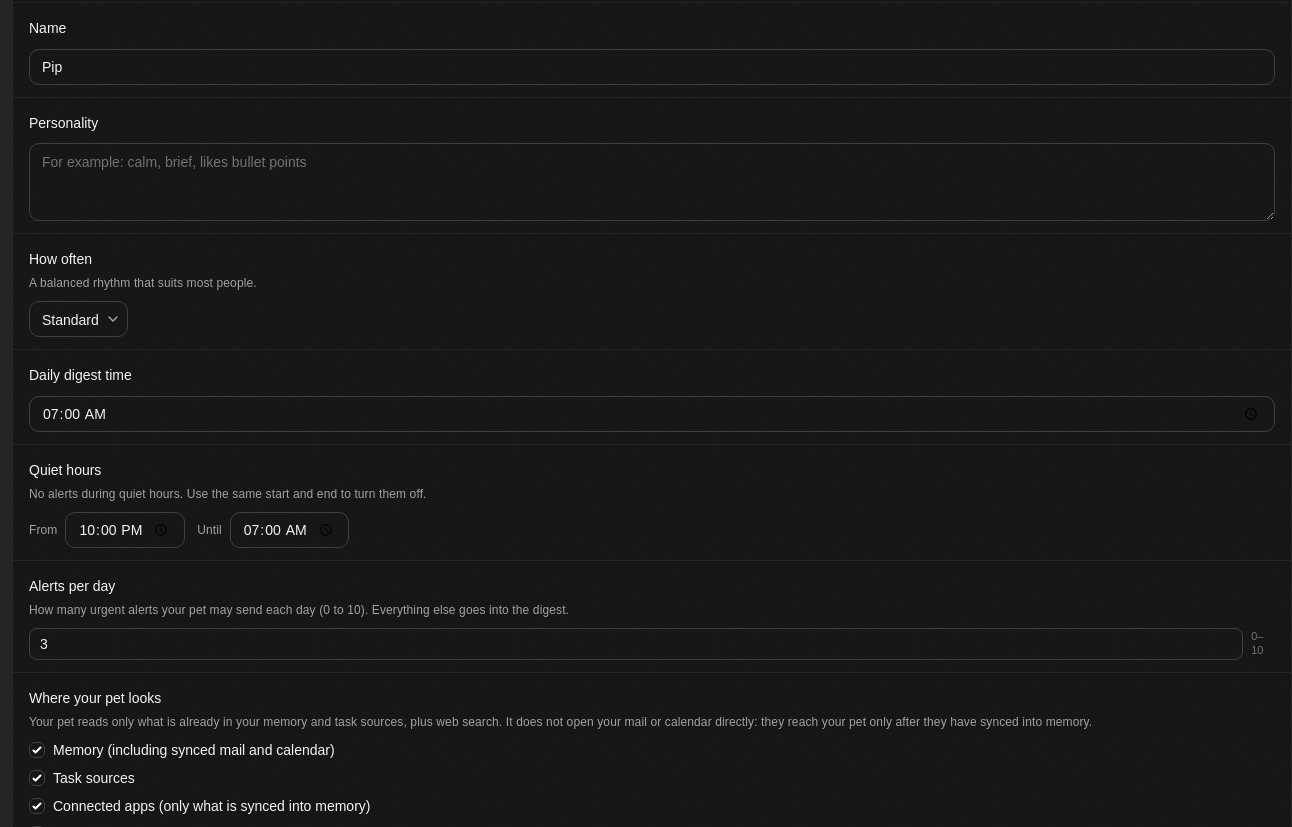
it: PetSettingsTab › sends a minimal patch containing only the changed fields
Step 1. Replace the text in the field with test id "pet-name-input" with "  Bean " → (652, 67), box [29,49,1275,85]
(page scrolled)
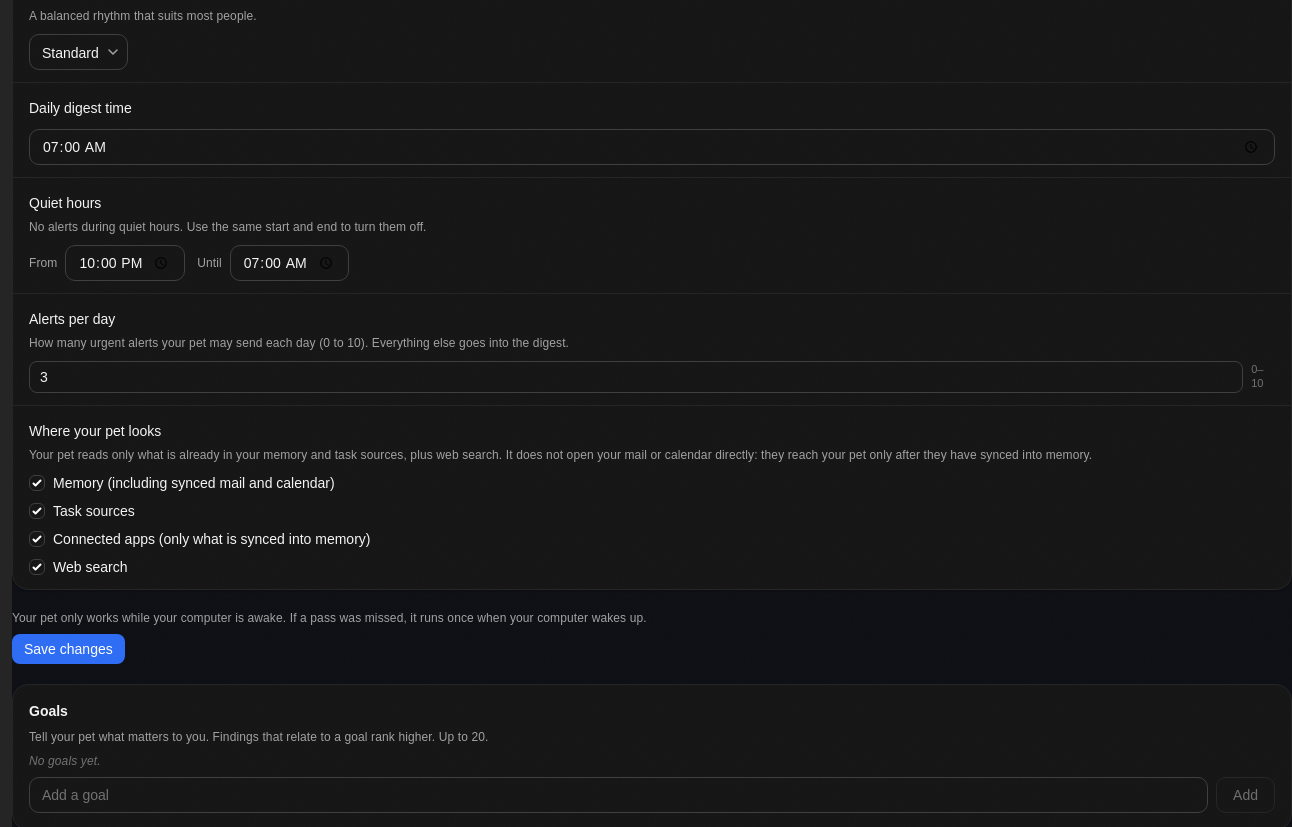
Step 2. Click the button with test id "pet-save" → (68, 649), box [12,634,125,664]
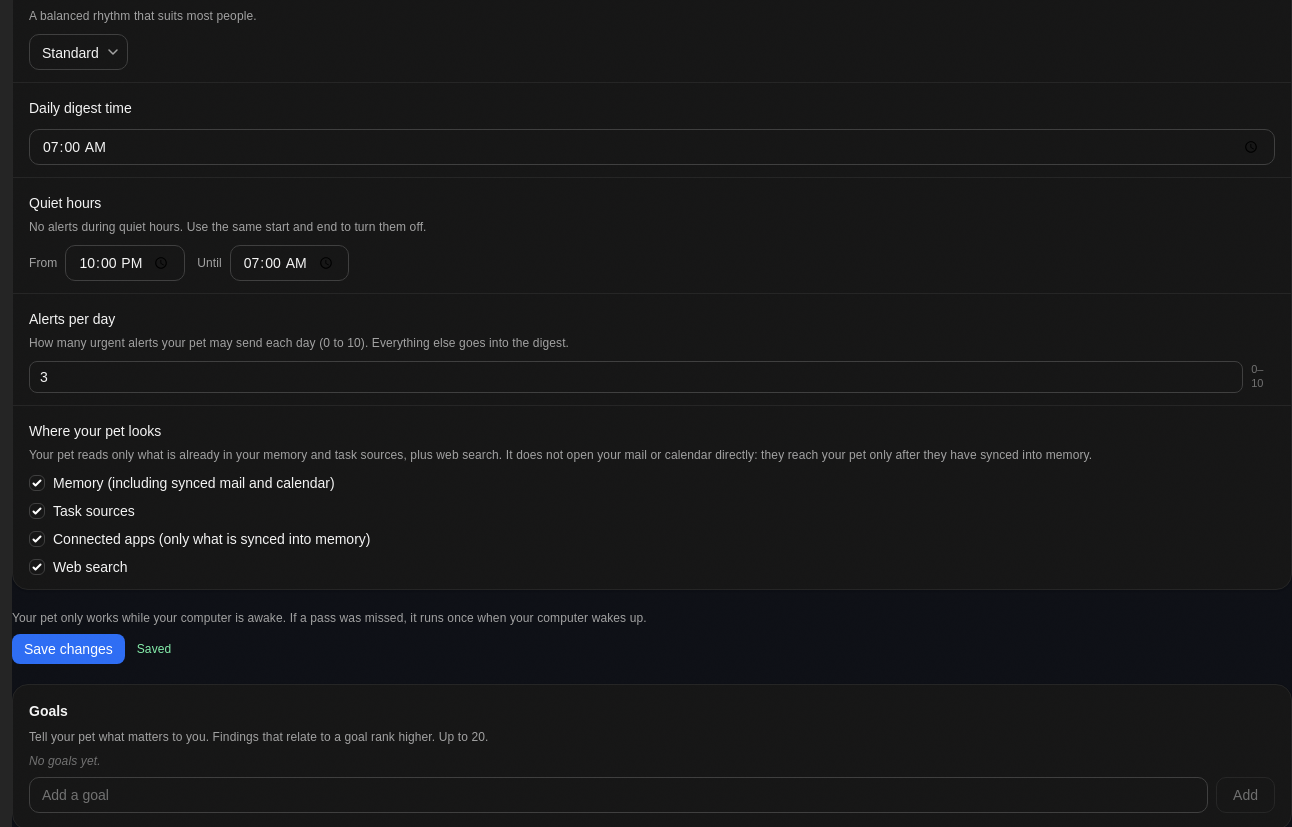
Result: the text "Saved" is shown at [137,641,171,657]
